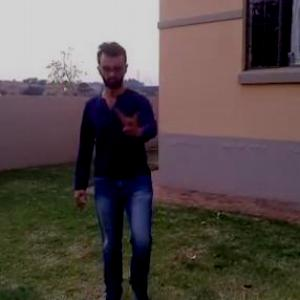takeoff-hand: (114, 104, 146, 139)
